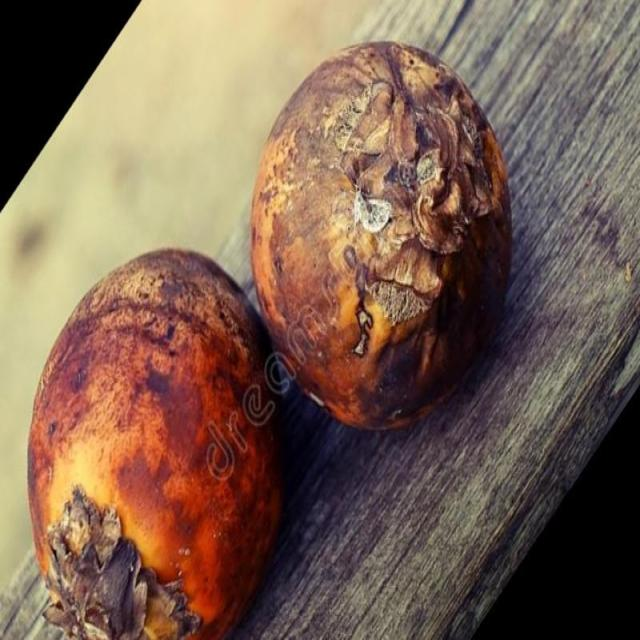damaged: (247, 44, 513, 432), (26, 249, 287, 639)
